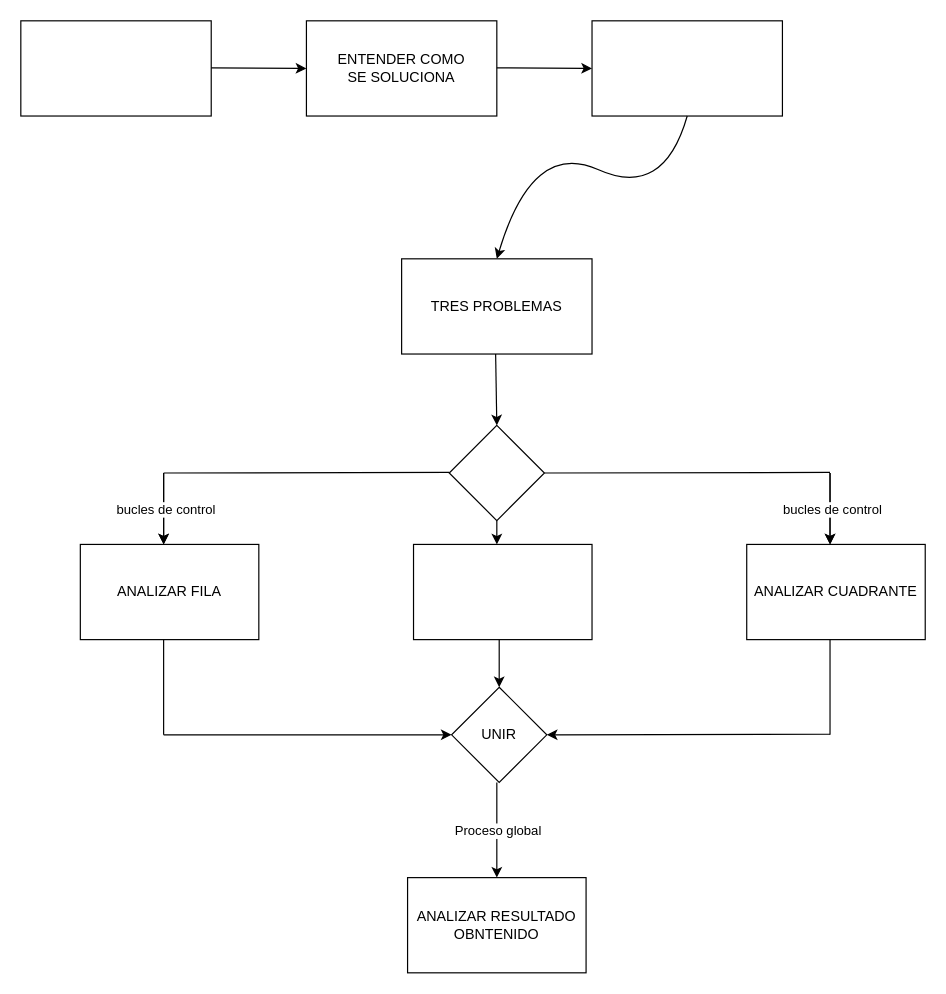
The diagram is 946 pixels wide and 994 high, and some of its shapes have lost their labels. Here are the shapes that lost their labels. From the top down, the box of each, then its label:
(20, 20, 211, 116): SUDOKU
(591, 20, 782, 116): MODULARIZAR
(412, 543, 592, 640): ANALIZAR COLUMNA
